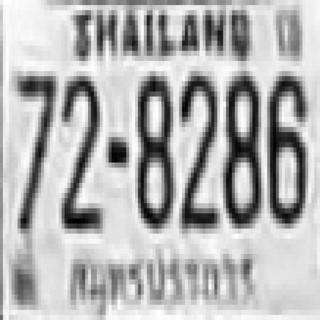N02: (59, 71, 100, 228), (178, 68, 216, 226)
N06: (264, 71, 305, 224)
N07: (13, 66, 54, 228)
N08: (220, 71, 258, 224), (135, 71, 170, 224)
P57: (64, 251, 258, 311)
